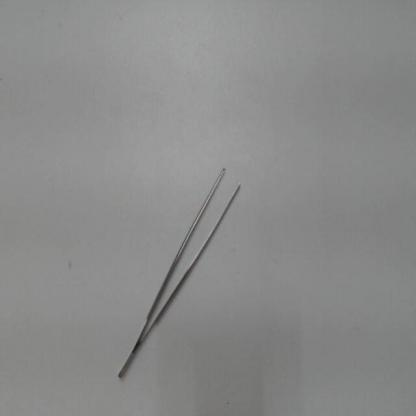Gillies Toothed Dissector: (109, 164, 253, 391)
